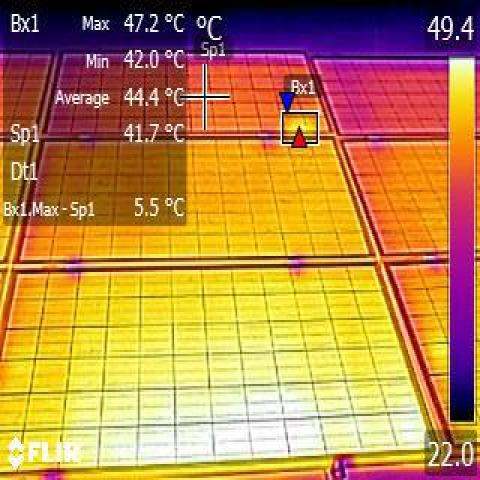fault: (75, 379, 316, 468)
